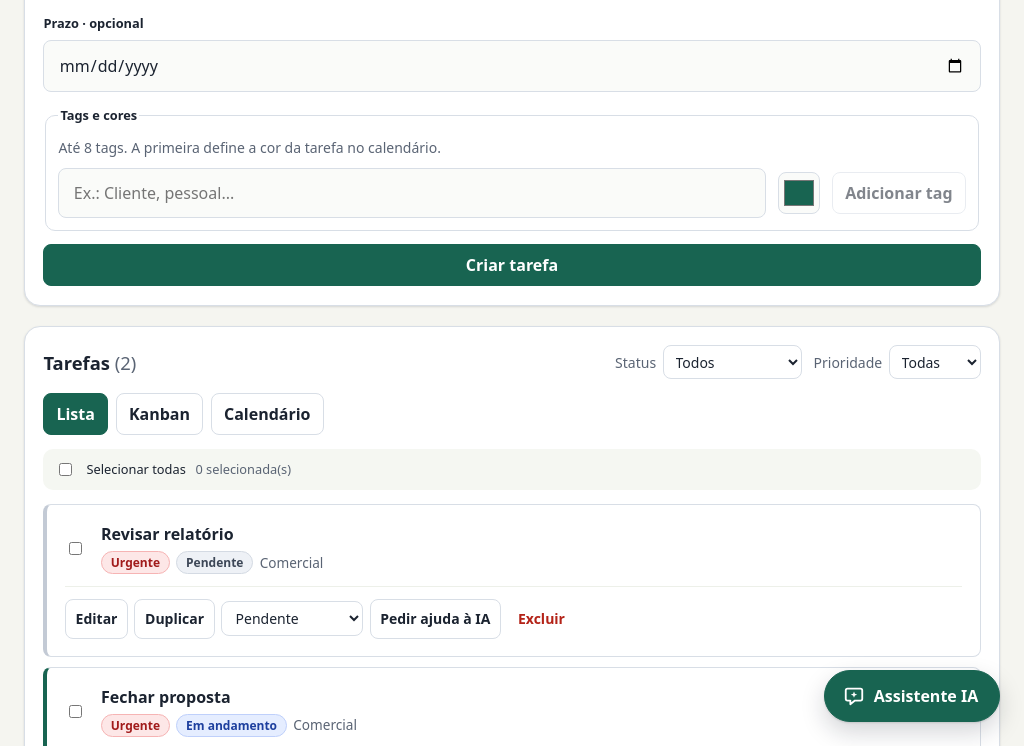
TasksPage views › Kanban loads every status (limit 100) and hides the status filter; Lista brings it back
(page scrolled)
Expected: the text "Revisar relatório" is shown, [101,523,234,545]
Select "Pendente" in the dropdown named "Filtrar por status": (732, 362) [662,345,802,379]
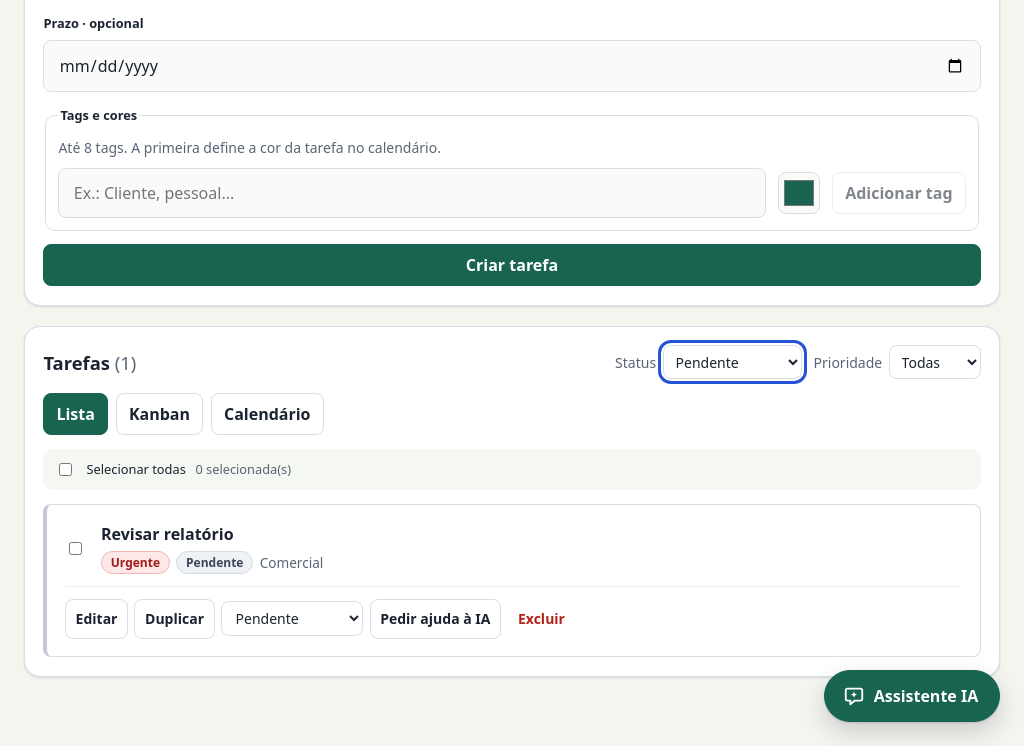
Select "Urgente" in the dropdown named "Filtrar por prioridade": (935, 362) [889,345,981,379]
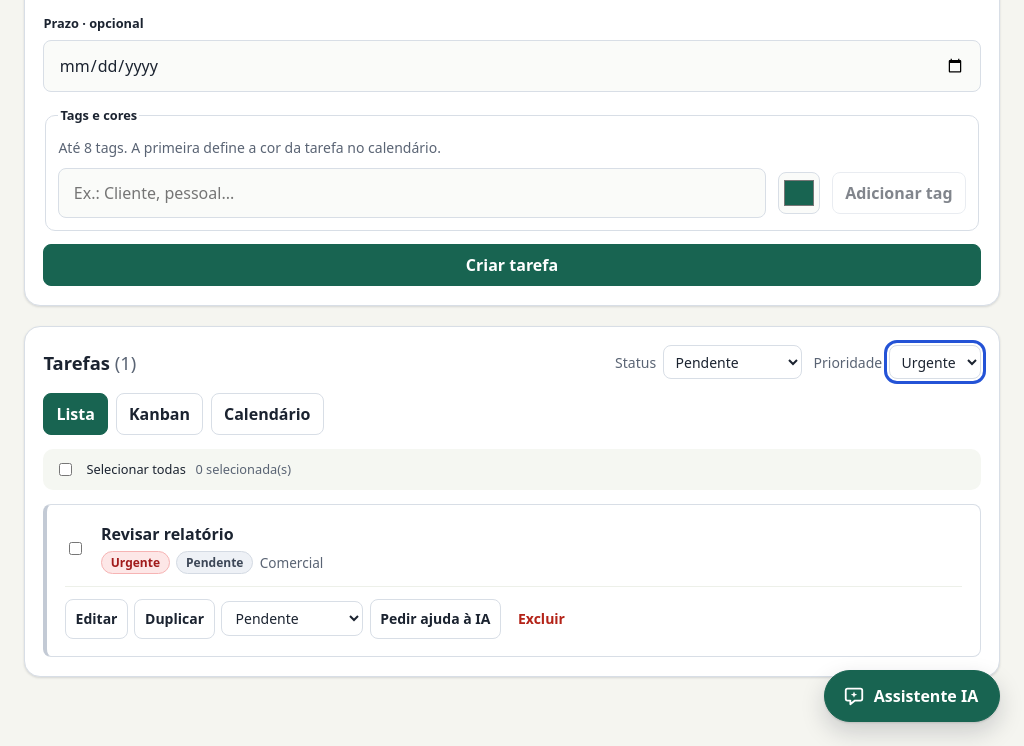
Result: the heading "Tarefas (1)" is shown at [43,348,136,376]
Click the tab "Kanban": click(159, 414) [116,393,203,435]
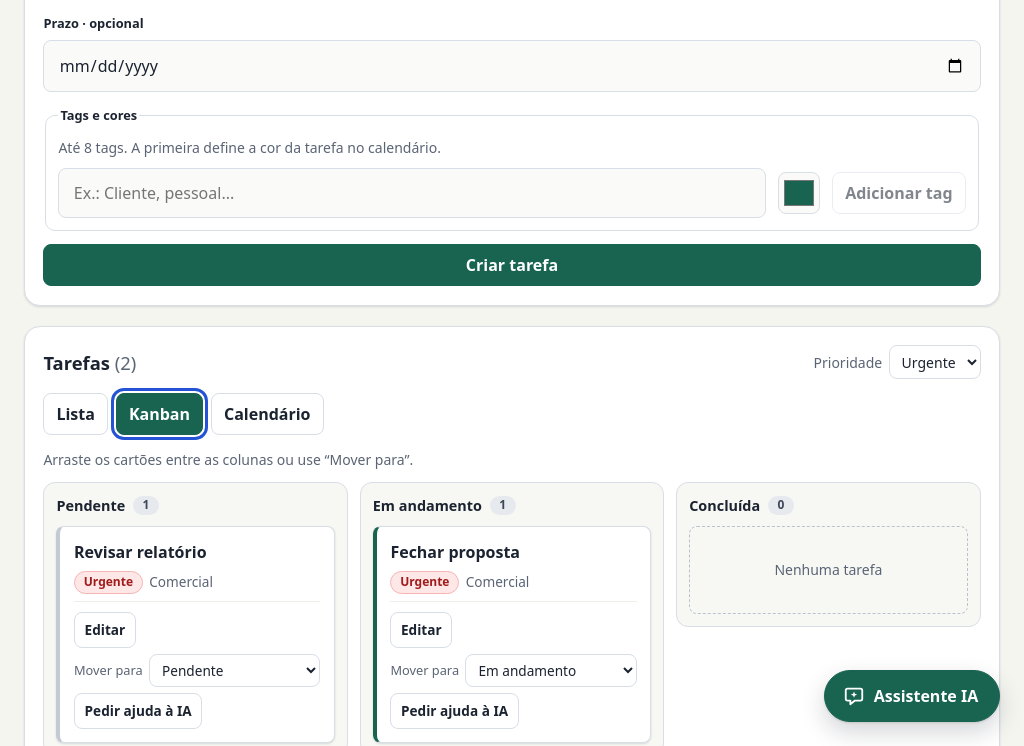
Result: the dropdown labelled "Filtrar por status" is gone
Result: the text "Fechar proposta" is shown at [390,541,520,563]
Result: the heading "Tarefas (2)" is shown at [43,348,136,376]
Click the tab "Lista": click(76, 414) [43,393,108,435]
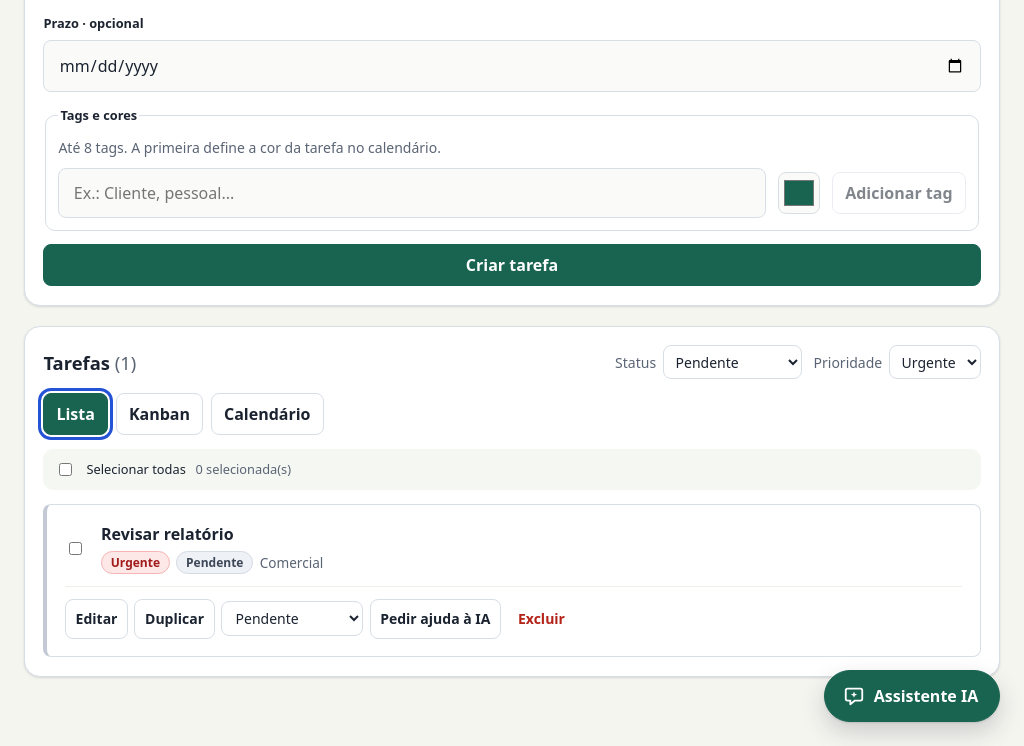
Result: the dropdown named "Filtrar por status" shows "Pendente" at [662,345,802,379]
Result: the heading "Tarefas (1)" is shown at [43,348,136,376]
Result: the text "Fechar proposta" is gone
